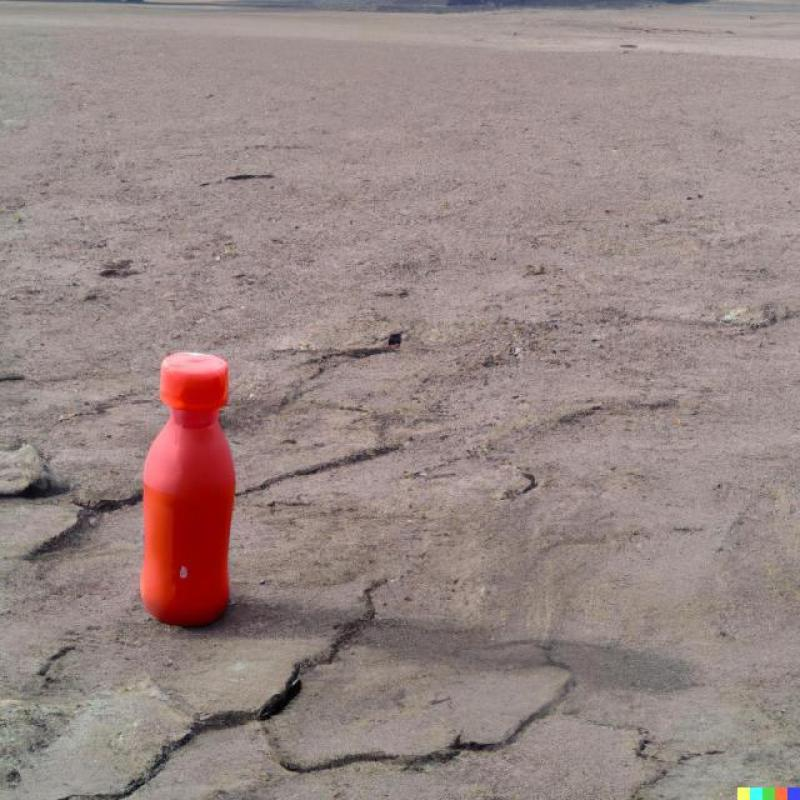botella: (139, 353, 235, 629)
